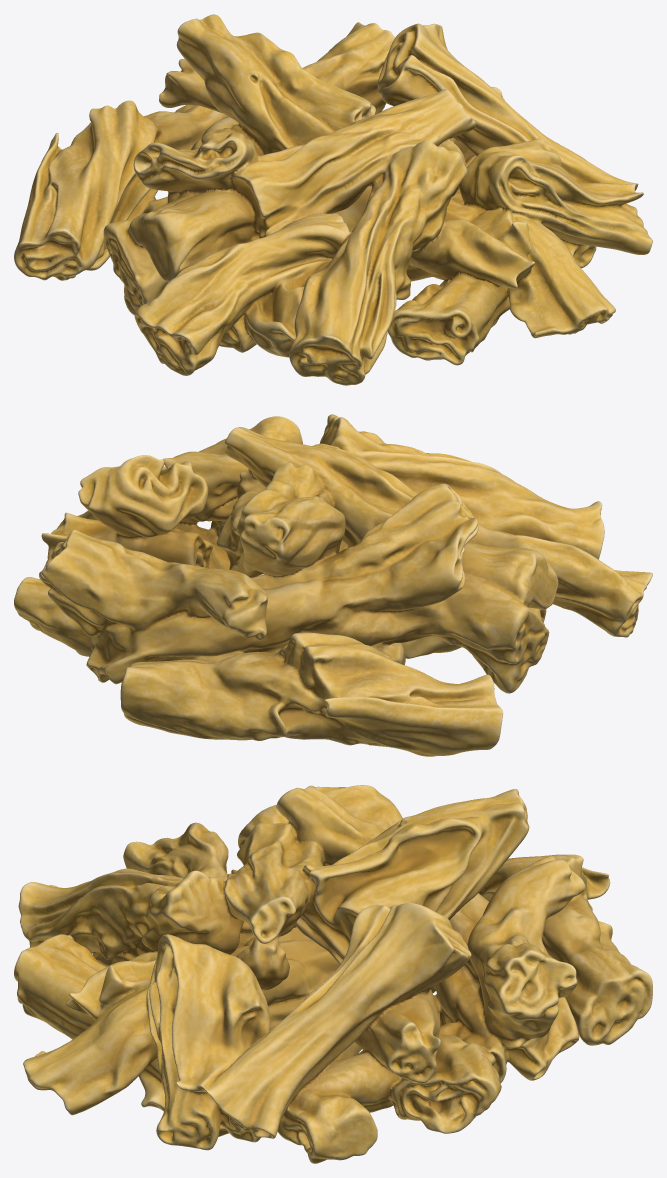
The model's file is tofu_skin.fbx.
3 renders of one model, top to bottom at view 1: azimuth 30°, elevation 25°; view 2: azimuth 150°, elevation 25°; view 3: azimuth 270°, elevation 25°, orthographic. The views are drawn at different scales.
Parts seen in each view (by area): view 1: Mesh_0; view 2: Mesh_0; view 3: Mesh_0.
Part boxes in pixels (x1,y1,x2,y2): Mesh_0: [14, 14, 652, 385]; Mesh_0: [14, 414, 652, 756]; Mesh_0: [14, 785, 652, 1163].
Bounding box in the file's own units: 190 × 72.46 × 188.
1 material, 1 textured.
